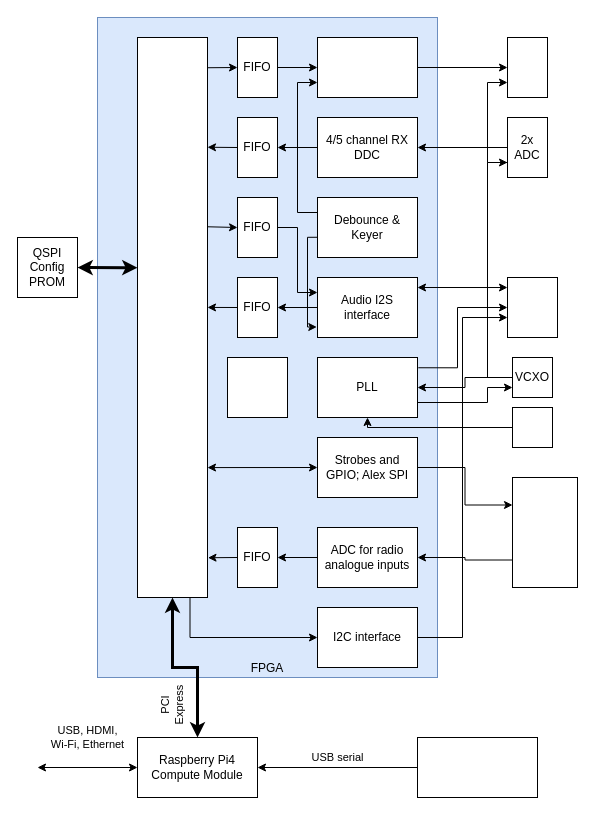
Image size: 595x815. Some labels were removed from this diagram. Each missing label, with the centre of its shape:
"10MHz ref in" belongs at (x=532, y=427).
"Andromeda Front Panel Board" belongs at (x=477, y=767).
"CODEC" belongs at (x=532, y=307).
"DAC" belongs at (x=527, y=67).
"I/O Connectors" belongs at (x=545, y=532).
"PCIe Interface" belongs at (x=172, y=317).
"Reset, Clock" belongs at (x=257, y=387).
"TX DUC" belongs at (x=367, y=67).
